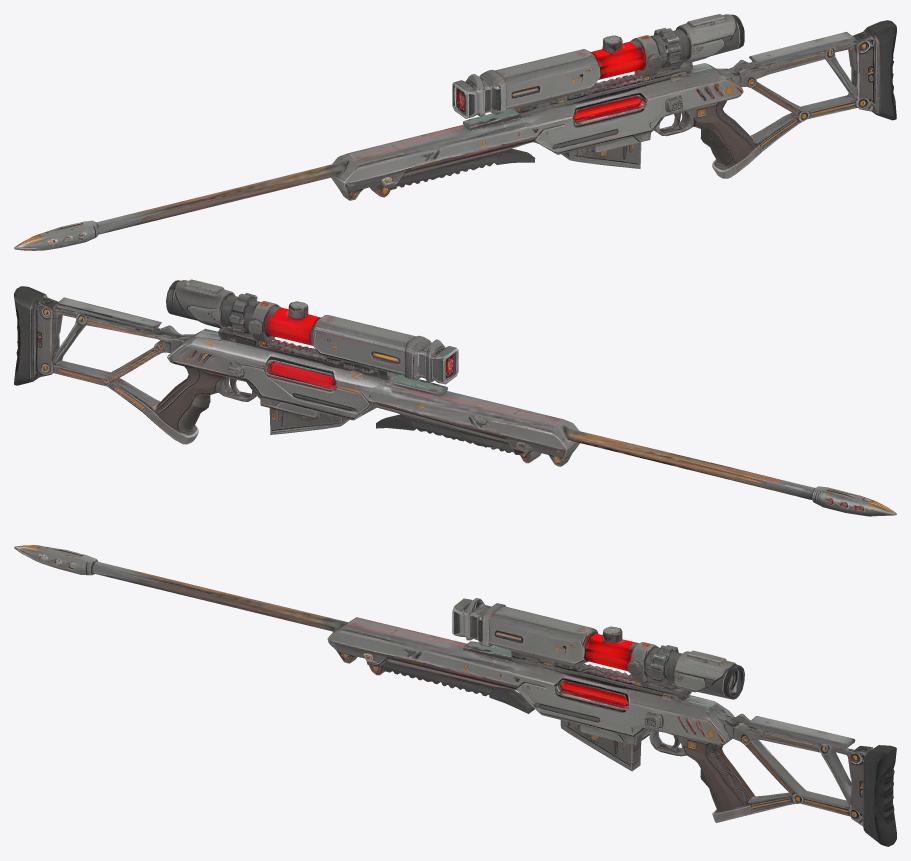
The model's file is laser_rifle.glb.
The picture shows the model from 3 angles, top to bottom: view 1: azimuth 30°, elevation 25°; view 2: azimuth 150°, elevation 25°; view 3: azimuth 330°, elevation 25°; orthographic projection.
Parts seen in each view (by area): view 1: Mesh_0; view 2: Mesh_0; view 3: Mesh_0.
Boxes of the visible parts, x1,y1,x2,y2 form: Mesh_0: (14,14,896,250); Mesh_0: (14,279,896,516); Mesh_0: (14,545,896,846).
Size of the model in its own units: 1.9 by 0.3367 by 0.1015.
Materials: 1 (1 with a texture image).
